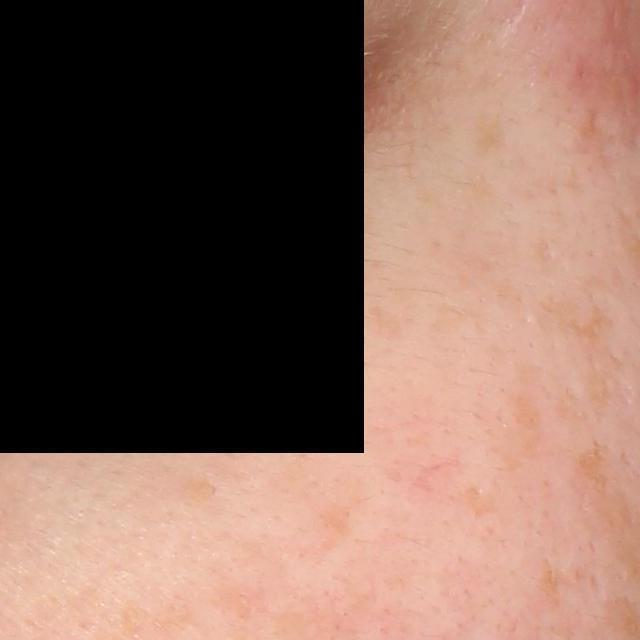melasma: (475, 115, 508, 156)
